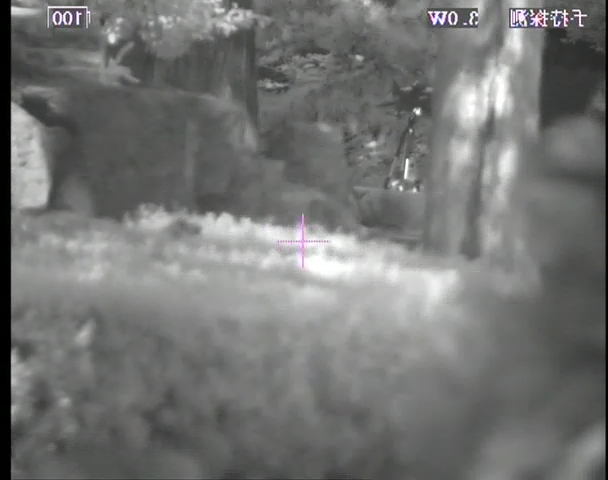my: (411, 107, 421, 117)
